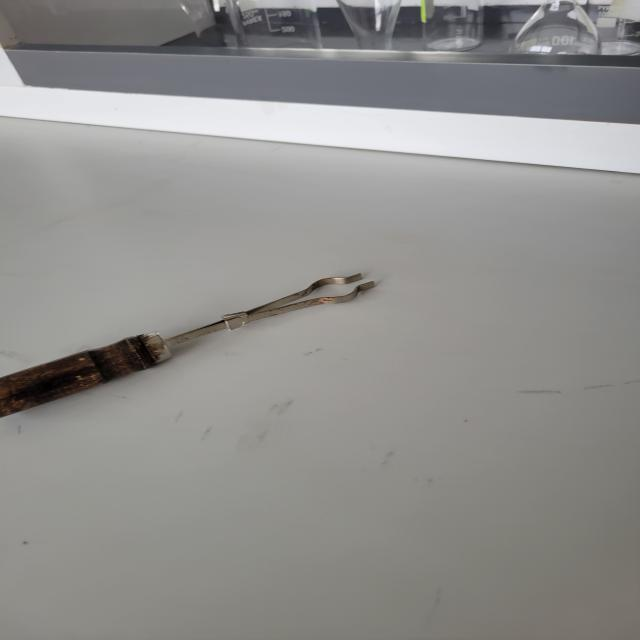TestTube_Holder: (3, 250, 409, 486)
